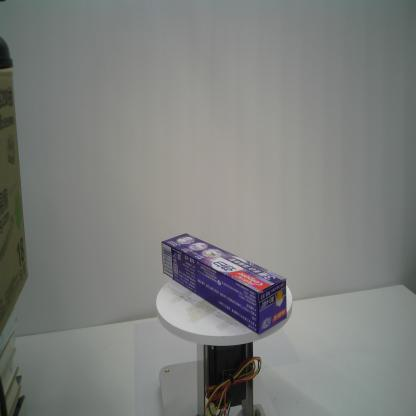Personal Hygiene: (161, 233, 287, 335)
